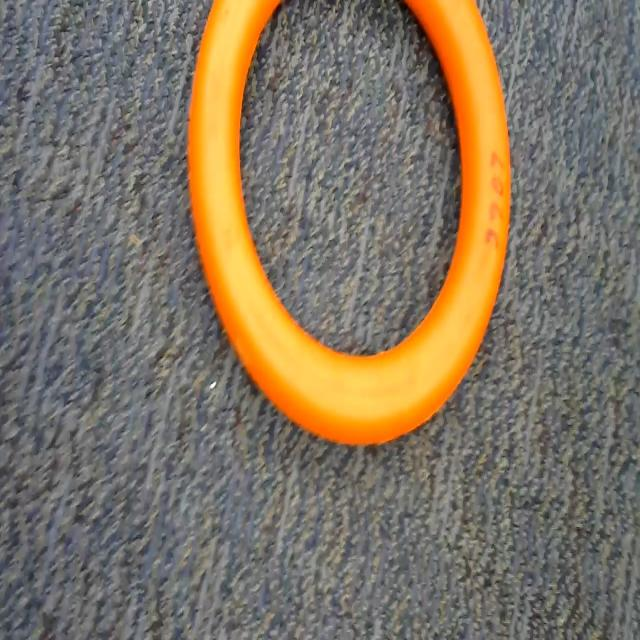note: (186, 0, 509, 467)
